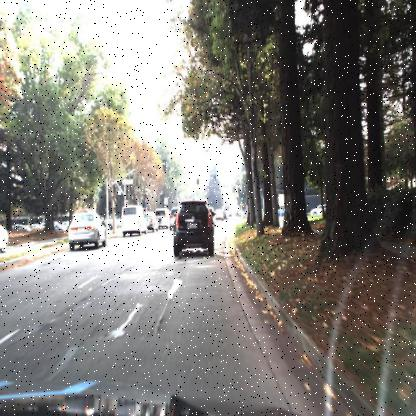car: (173, 197, 214, 260), (67, 210, 107, 247), (119, 203, 146, 235), (303, 200, 330, 218), (155, 203, 171, 230), (143, 212, 157, 235), (0, 223, 9, 254)
